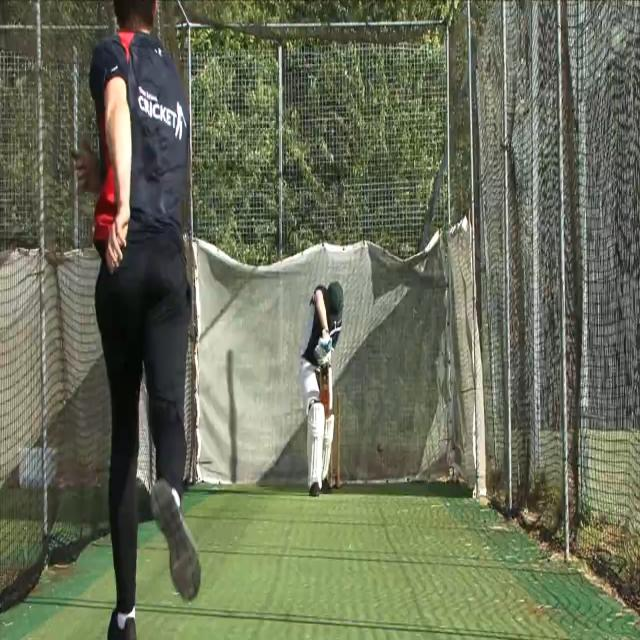batsman: (298, 279, 345, 501)
